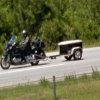Motorcycle: (4, 28, 46, 72)
